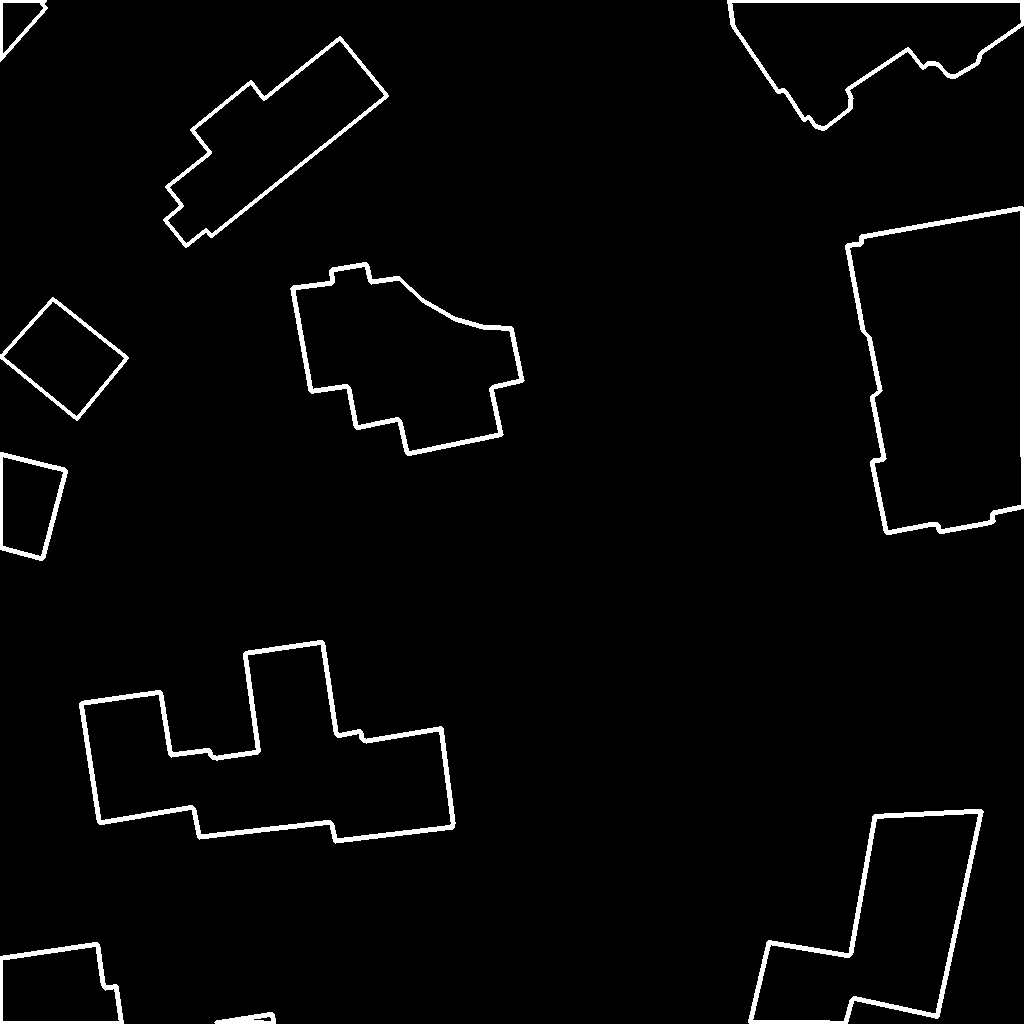building: (81, 642, 454, 842), (847, 208, 1024, 534), (750, 811, 983, 1024), (165, 38, 388, 247), (292, 264, 523, 455), (729, 0, 928, 130), (0, 944, 275, 1024), (1, 299, 128, 420), (889, 0, 1024, 78), (0, 454, 67, 560), (0, 0, 47, 61)
